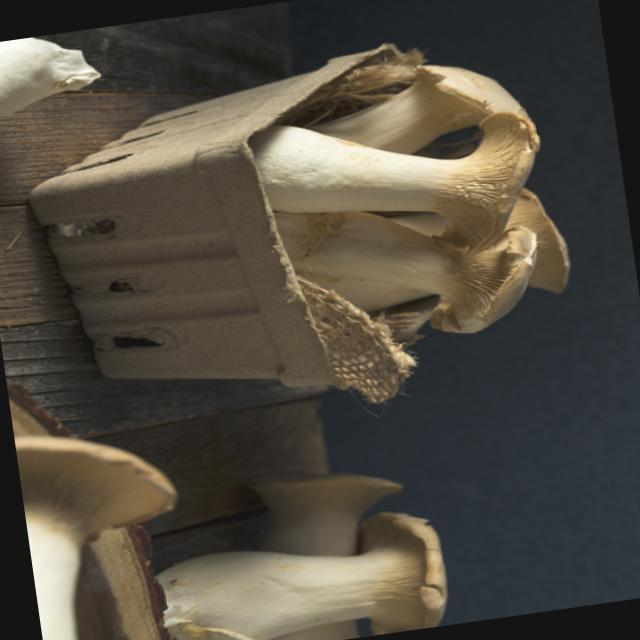Pleurotus eryngii: (252, 46, 554, 270), (14, 421, 197, 640), (153, 511, 453, 640), (312, 193, 550, 355)
